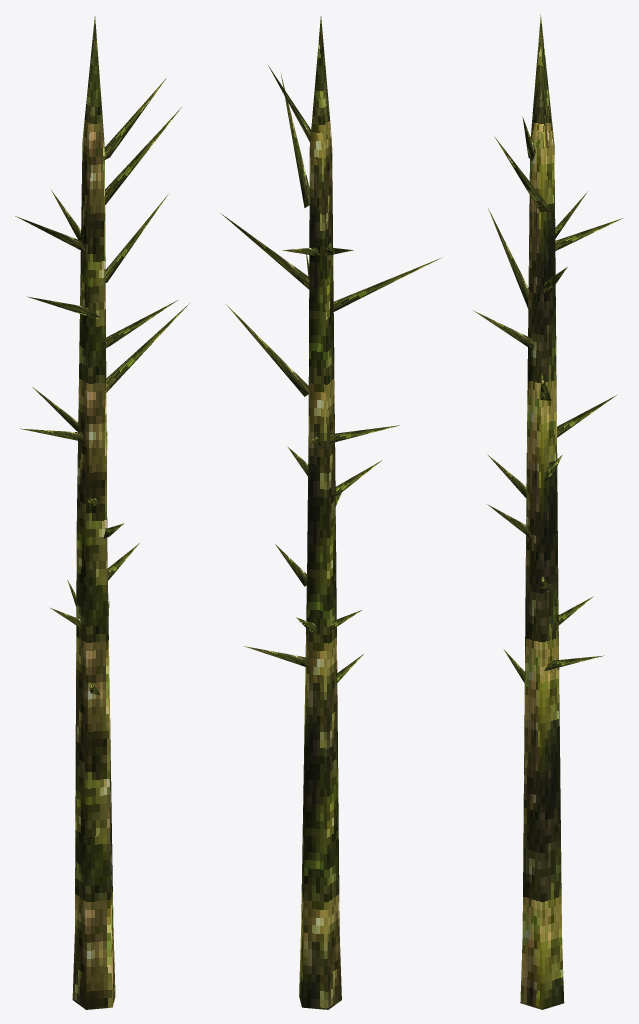
File: Tree06.obj
The picture shows the model from 3 angles, left to right: view 1: azimuth 30°, elevation 25°; view 2: azimuth 150°, elevation 25°; view 3: azimuth 270°, elevation 25°; orthographic projection.
Parts seen in each view (by area): view 1: Mesh_0; view 2: Mesh_0; view 3: Mesh_0.
Part boxes in pixels (box(x1,y1,x2,y2)): Mesh_0: box(15, 16, 189, 1009); Mesh_0: box(220, 16, 440, 1009); Mesh_0: box(473, 14, 623, 1009).
Size of the model in its own units: 1.65 by 8.09 by 1.14.
Materials: 1 (1 with a texture image).
